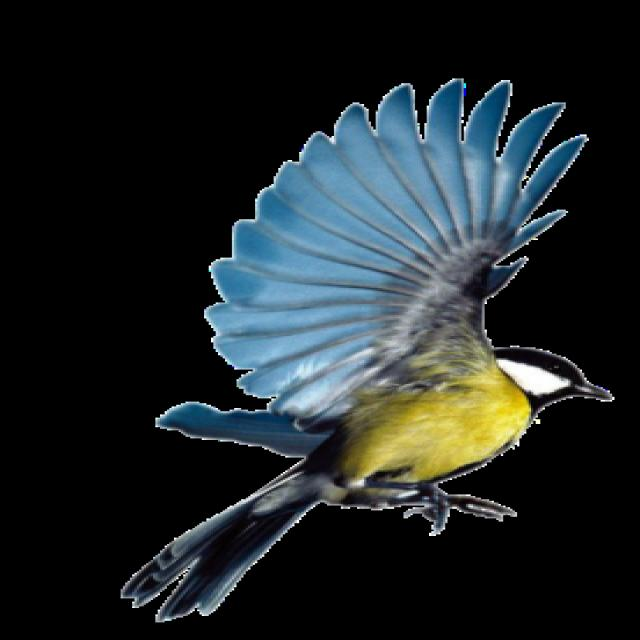birds: (97, 69, 640, 627)
